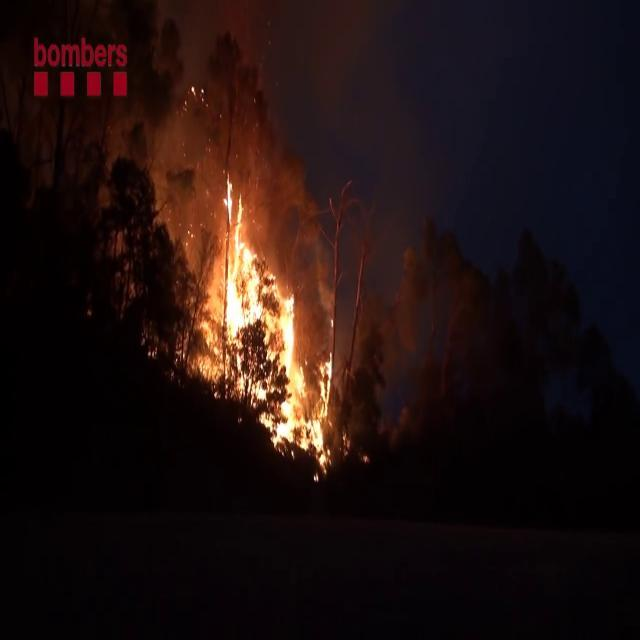Fire: (203, 172, 335, 458)
Smoke: (138, 0, 296, 247)
